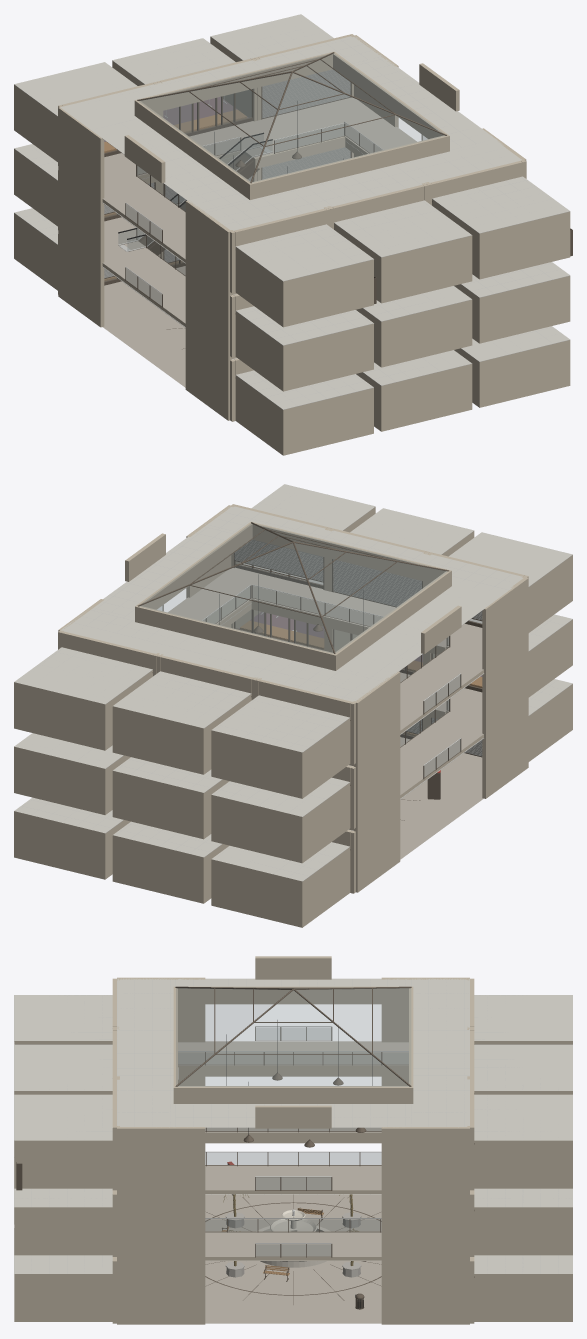
The model's file is fountain_court.glb.
3 views of the same model, one above another, from view 1: azimuth 30°, elevation 25°; view 2: azimuth 150°, elevation 25°; view 3: azimuth 270°, elevation 25° (orthographic). The views are drawn at different scales.
Parts seen in each view (by area): view 1: fountain_court; view 2: fountain_court; view 3: fountain_court.
Part boxes in pixels (x1,y1,x2,y2): fountain_court: (14, 14, 572, 455); fountain_court: (14, 484, 572, 927); fountain_court: (14, 956, 572, 1324).
Size of what is drawn, in the model's own units: 24.3 by 20.85 by 38.01.
